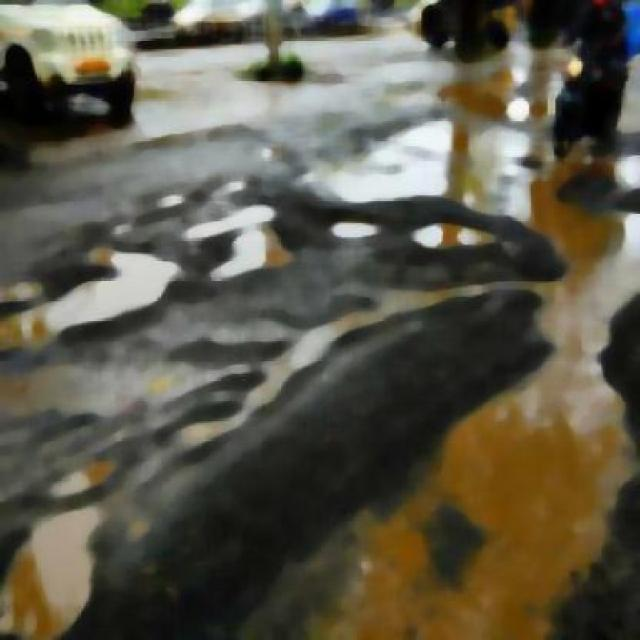Pothole: (302, 299, 630, 638), (0, 238, 157, 365), (19, 464, 115, 638), (165, 183, 313, 289), (327, 214, 499, 280)
